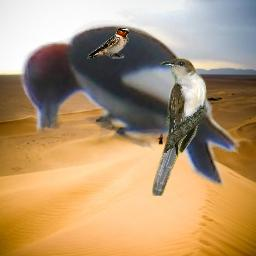Cuckoo: (152, 58, 208, 196)
Swallow: (87, 27, 129, 59)
Woodpecker: (14, 19, 244, 190)
